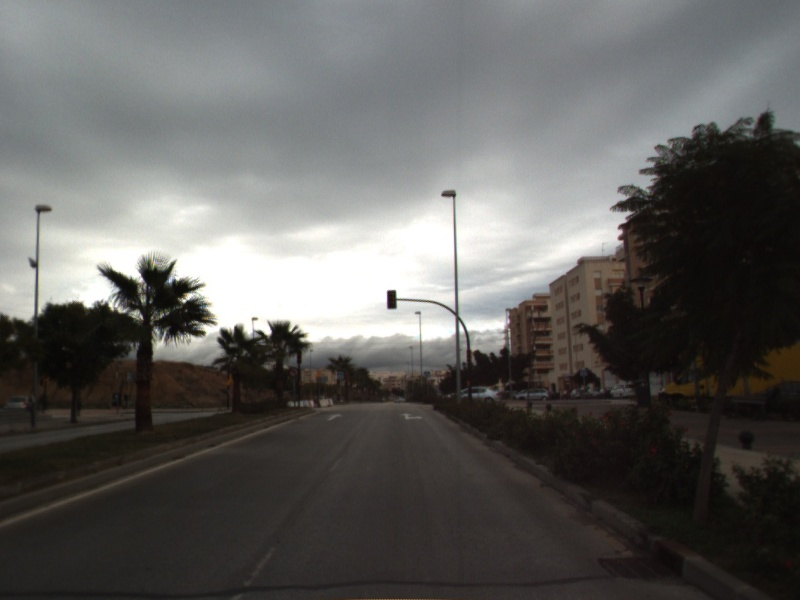STRAIGHT: (325, 411, 345, 423)
STRAIGHT_RIGHT: (398, 410, 424, 422)
